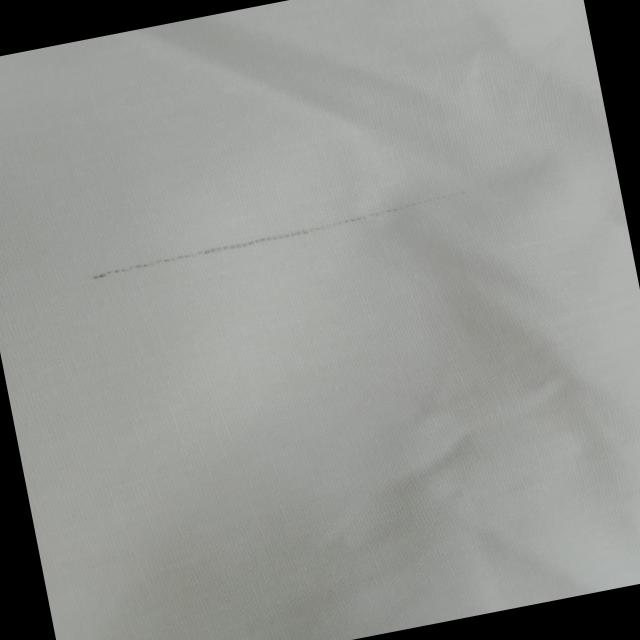contamination: (75, 184, 471, 294)
